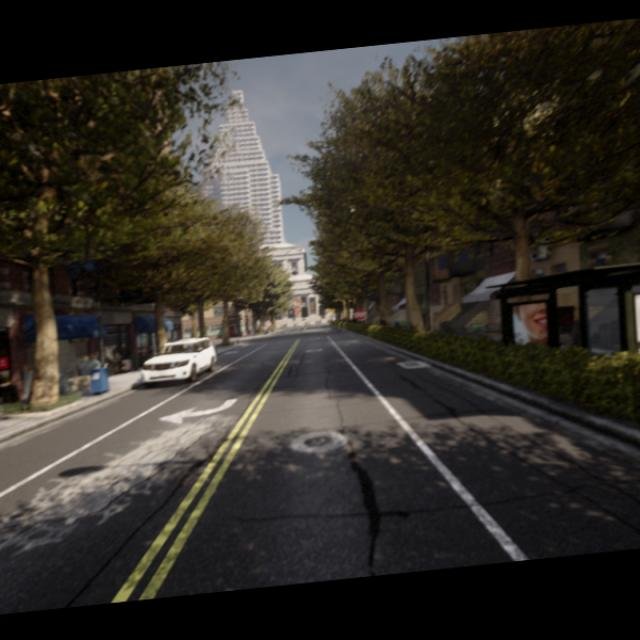stop sign: (352, 309, 369, 327)
